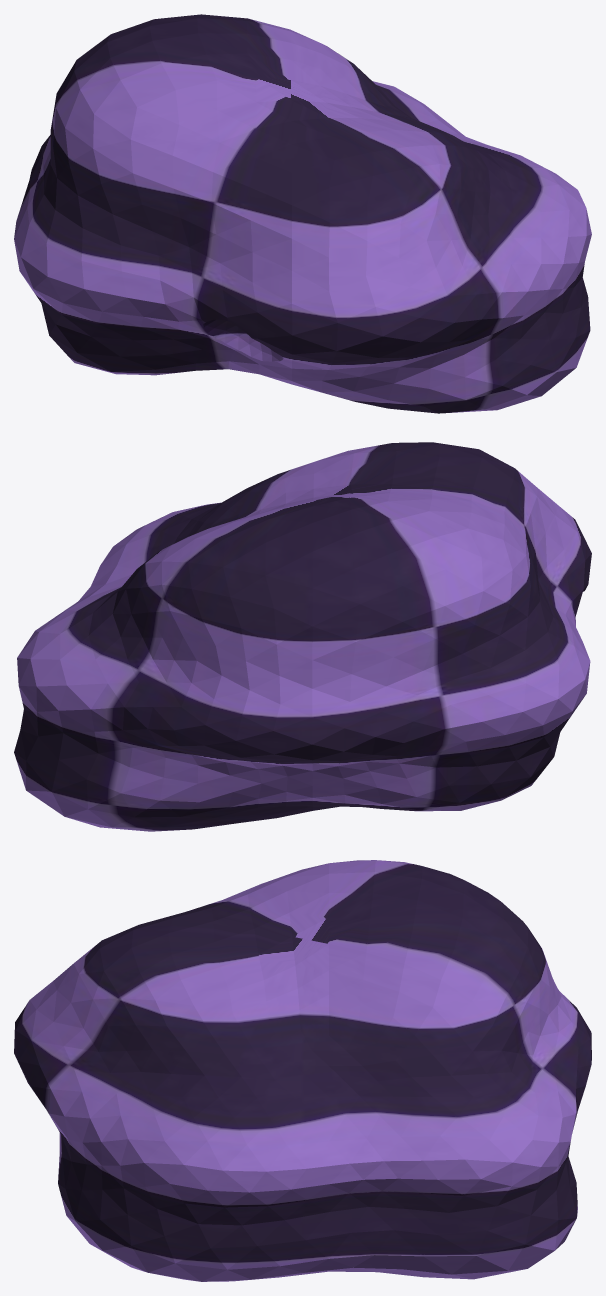
3 views of the same model, one above another, from view 1: azimuth 30°, elevation 25°; view 2: azimuth 150°, elevation 25°; view 3: azimuth 270°, elevation 25° (orthographic). The views are drawn at different scales.
Visible parts, largest first — view 1: geometry_0; view 2: geometry_0; view 3: geometry_0.
Part boxes in pixels (<box>): geometry_0: <box>14,14,591,413</box>; geometry_0: <box>14,442,591,831</box>; geometry_0: <box>14,860,591,1281</box>.
Bounding box in the file's own units: 2.19 × 1.33 × 2.34.
Materials: 1 (1 with a texture image).
